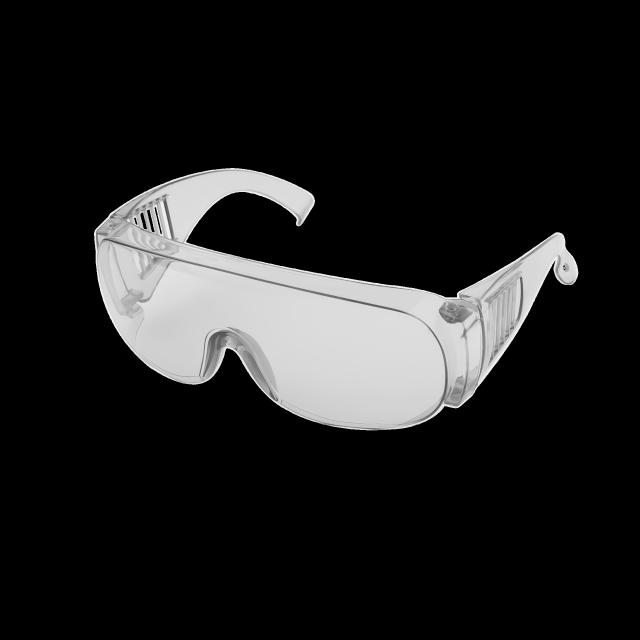Protective Glasses: (64, 139, 588, 456)
